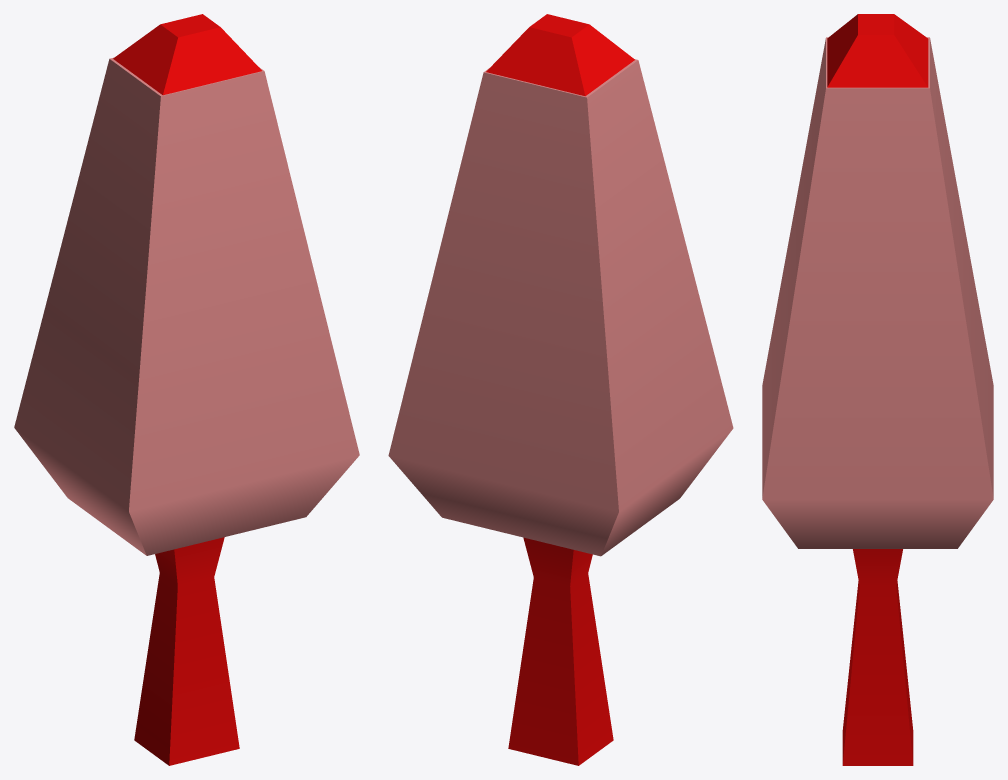
Rendered from lavalampe_FBX.fbx.
3 renders of one model, left to right at view 1: azimuth 30°, elevation 25°; view 2: azimuth 150°, elevation 25°; view 3: azimuth 270°, elevation 25°, orthographic.
Parts seen in each view (by area): view 1: polySurface1; view 2: polySurface1; view 3: polySurface1.
Part boxes in pixels (x1,y1,x2,y2): polySurface1: (14, 14, 359, 765); polySurface1: (388, 14, 733, 765); polySurface1: (762, 14, 993, 765).
Size of the model in its own units: 0.3843 by 1.14 by 0.3305.
